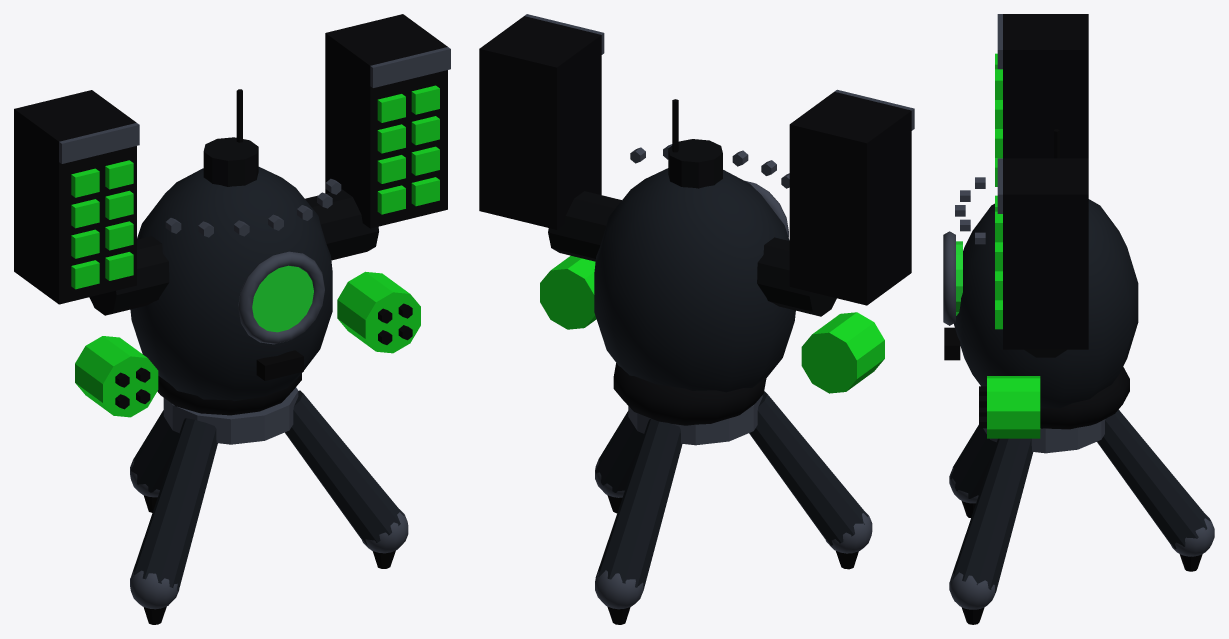
Rendered from Enemy_sentinel.fbx.
3 renders of one model, left to right at view 1: azimuth 30°, elevation 25°; view 2: azimuth 150°, elevation 25°; view 3: azimuth 270°, elevation 25°, orthographic. The views are drawn at different scales.
Parts seen in each view (by area): view 1: Enemy_sentinel; view 2: Enemy_sentinel; view 3: Enemy_sentinel.
Boxes of the visible parts, x1=… form: Enemy_sentinel: x1=14, y1=14, x2=450, y2=624; Enemy_sentinel: x1=479, y1=14, x2=914, y2=624; Enemy_sentinel: x1=943, y1=14, x2=1214, y2=624.
Size of the model in its own units: 0.8 by 0.96 by 0.5085.
